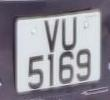1: (45, 51, 58, 91)
5: (25, 53, 48, 92)
6: (56, 49, 77, 87)
9: (74, 47, 93, 84)
U: (60, 16, 80, 53)
V: (42, 18, 61, 55)
